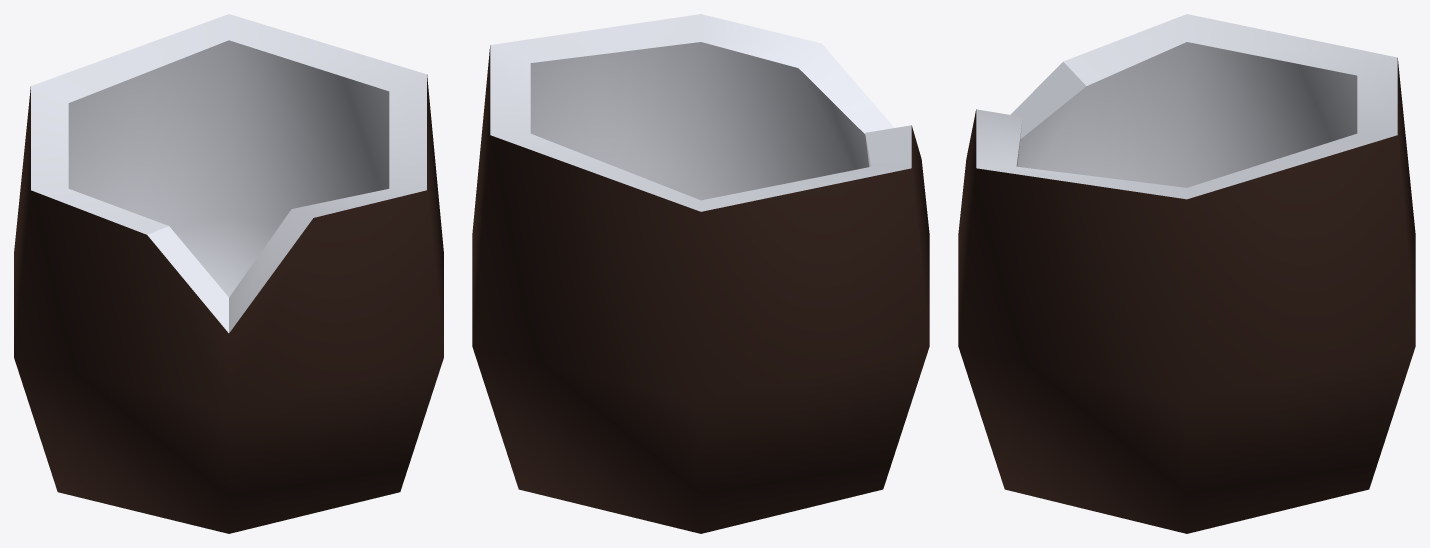
The model's file is Coconut.fbx.
3 renders of one model, left to right at view 1: azimuth 30°, elevation 25°; view 2: azimuth 150°, elevation 25°; view 3: azimuth 270°, elevation 25°, orthographic. The views are drawn at different scales.
Visible parts, largest first — view 1: Coconut; view 2: Coconut; view 3: Coconut.
Boxes of the visible parts, <box> form: Coconut: <box>14,14,443,533</box>; Coconut: <box>472,14,929,533</box>; Coconut: <box>958,14,1415,533</box>.
Size of the model in its own units: 171 by 155 by 148.
